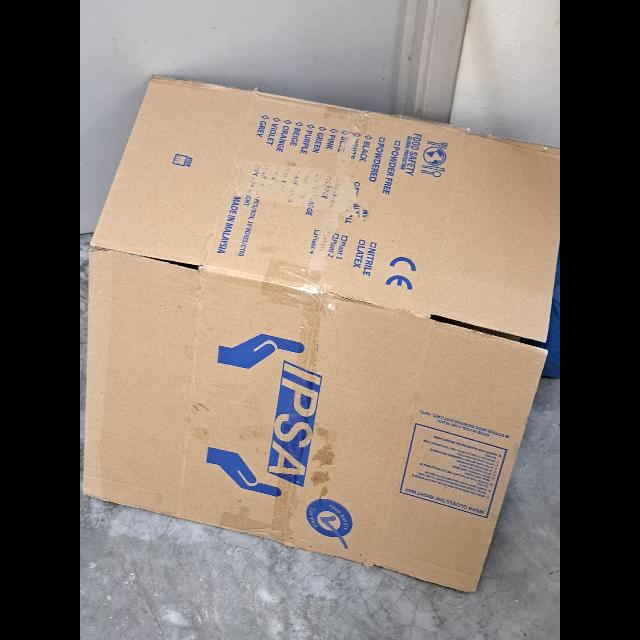papelão: (80, 73, 560, 594)
